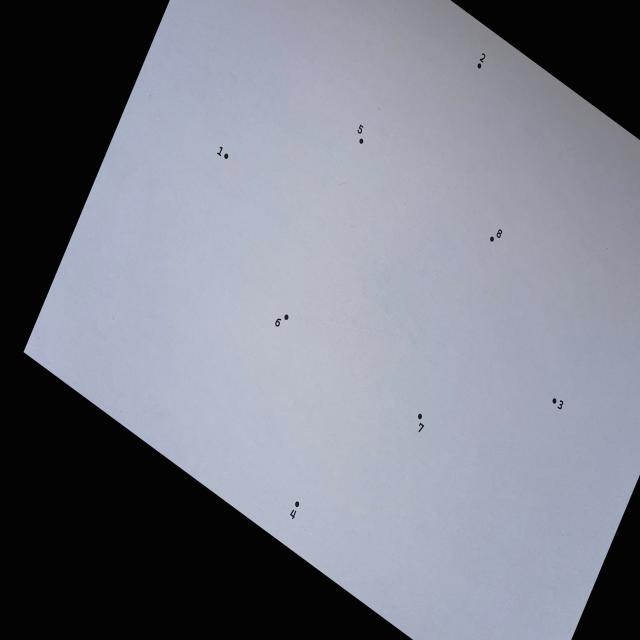Dot: (284, 314, 289, 320), (224, 154, 229, 160), (359, 138, 364, 144), (477, 63, 482, 69), (295, 501, 299, 507), (552, 398, 556, 404), (490, 236, 494, 242), (418, 414, 422, 419)
DotNumber: (275, 314, 289, 327), (290, 501, 299, 520), (217, 146, 229, 160), (490, 229, 502, 242), (552, 398, 564, 410), (477, 53, 486, 69), (357, 124, 364, 144), (418, 413, 424, 433)
Number: (357, 124, 364, 134), (290, 509, 296, 520), (418, 422, 424, 433), (217, 146, 223, 156), (480, 53, 486, 63), (558, 400, 564, 409), (496, 229, 502, 238), (275, 318, 281, 327)
